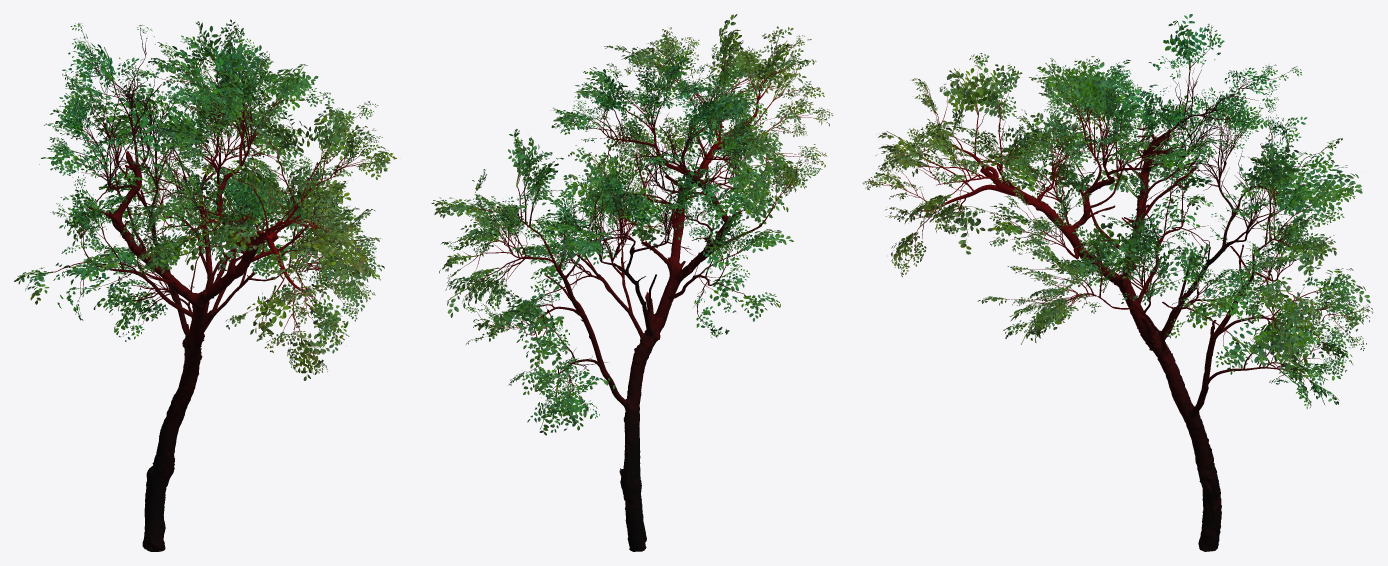
Rendered from tree_small_02.gltf.
3 renders of one model, left to right at view 1: azimuth 30°, elevation 25°; view 2: azimuth 150°, elevation 25°; view 3: azimuth 270°, elevation 25°, orthographic. The views are drawn at different scales.
Visible parts, largest first — view 1: tree_small_02_LOD0; view 2: tree_small_02_LOD0; view 3: tree_small_02_LOD0.
Part boxes in pixels (left/top/right/bottom): tree_small_02_LOD0: left=14, top=19, right=396, bottom=551; tree_small_02_LOD0: left=431, top=14, right=832, bottom=551; tree_small_02_LOD0: left=862, top=14, right=1373, bottom=551.
Bounding box in the file's own units: 2.96 × 4.57 × 4.3.
3 materials, 3 textured.
